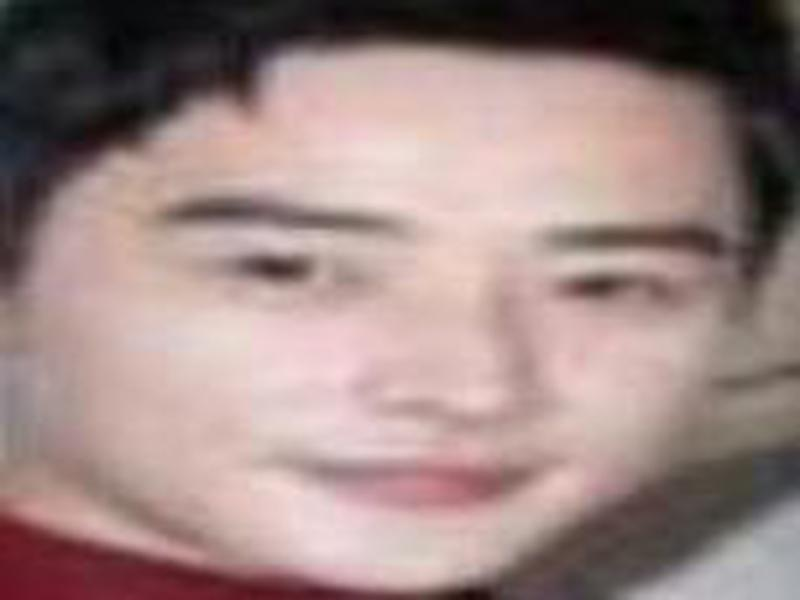without_mask: (14, 68, 763, 593)
